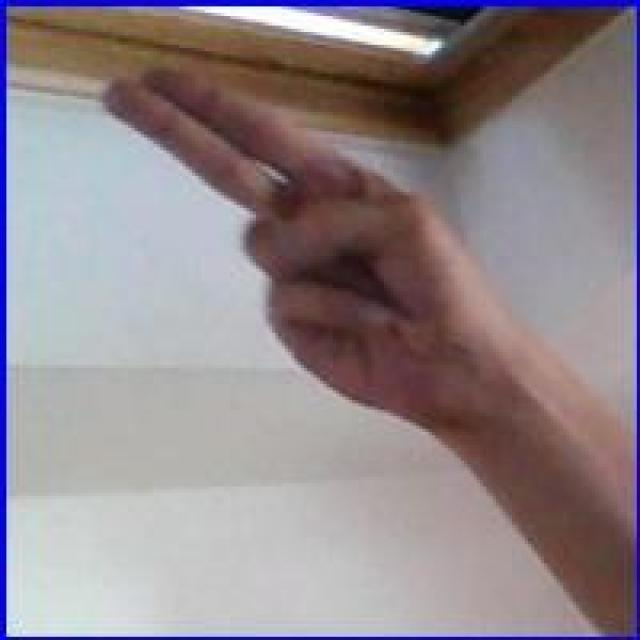H: (98, 62, 504, 450)
